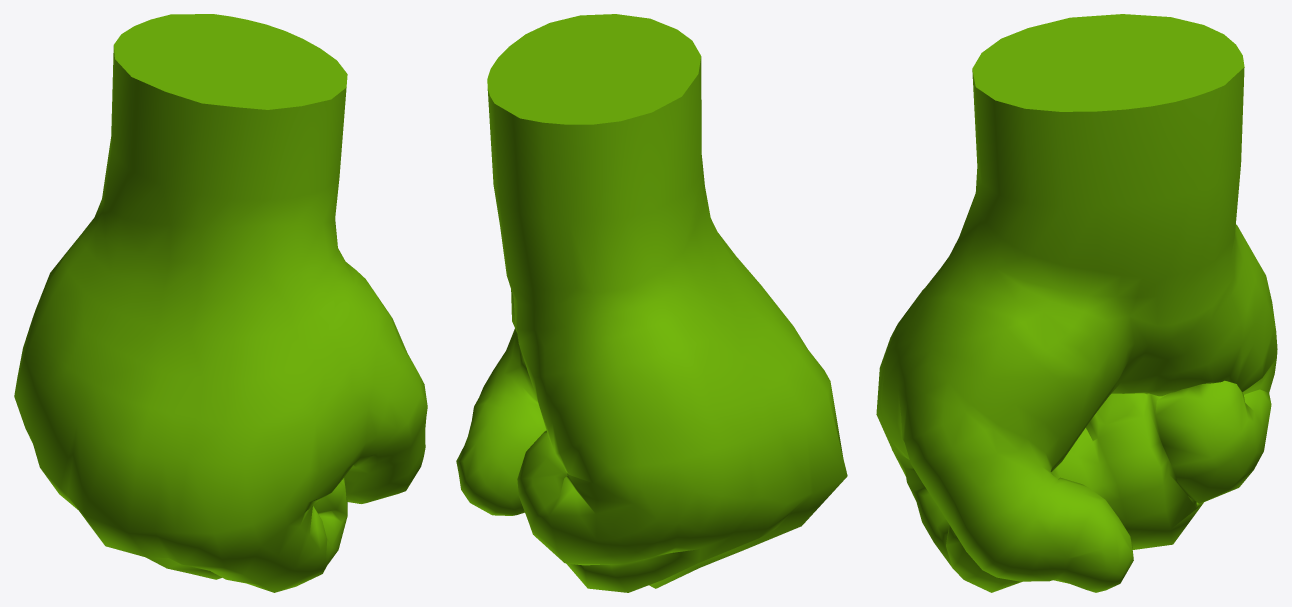
Rendered from Gloves_Fist.fbx.
The picture shows the model from 3 angles, left to right: view 1: azimuth 30°, elevation 25°; view 2: azimuth 150°, elevation 25°; view 3: azimuth 270°, elevation 25°; orthographic projection. The views are drawn at different scales.
Visible parts, largest first — view 1: Gloves_Fist.001; view 2: Gloves_Fist.001; view 3: Gloves_Fist.001.
Boxes of the visible parts, x1,y1,x2,y2 form: Gloves_Fist.001: (14, 14, 427, 592); Gloves_Fist.001: (456, 14, 847, 592); Gloves_Fist.001: (876, 14, 1277, 592).
Size of the model in its own units: 25.52 by 35.5 by 24.53.
